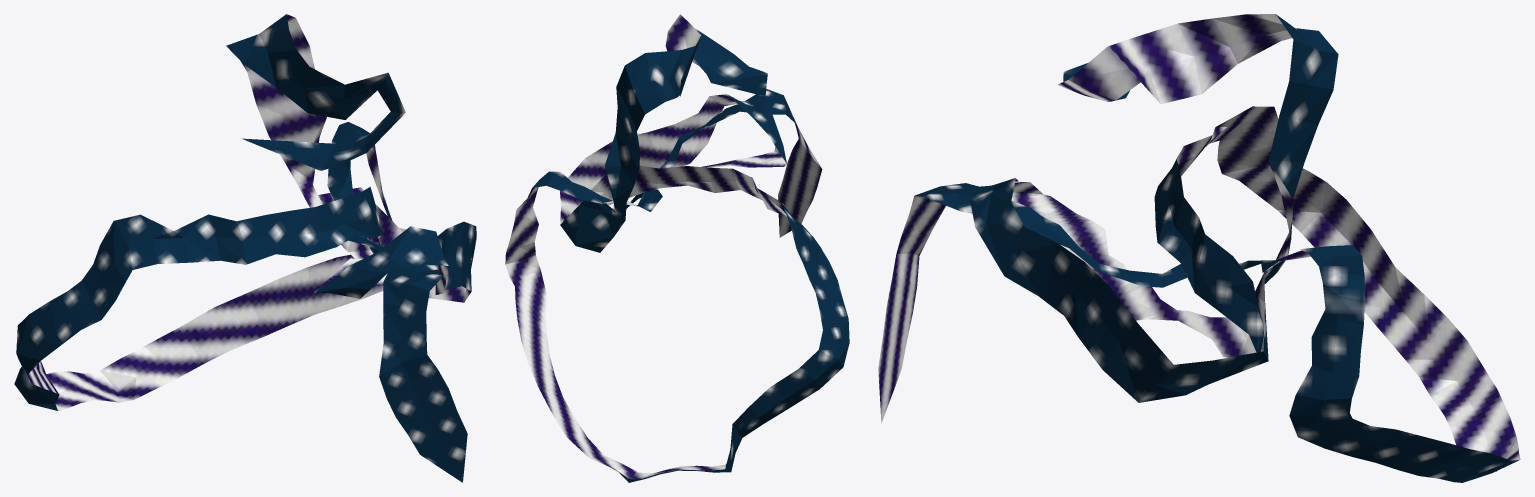
3 views of the same model, side by side, from view 1: azimuth 30°, elevation 25°; view 2: azimuth 150°, elevation 25°; view 3: azimuth 270°, elevation 25° (orthographic). The views are drawn at different scales.
Visible parts, largest first — view 1: Mesh2; view 2: Mesh2; view 3: Mesh2.
Part boxes in pixels (x1=…): Mesh2: x1=14, y1=14, x2=476, y2=482; Mesh2: x1=505, y1=14, x2=849, y2=482; Mesh2: x1=878, y1=14, x2=1520, y2=482.
Size of the model in its own units: 0.9248 by 0.9527 by 1.11.
Materials: 2 (2 with a texture image).
